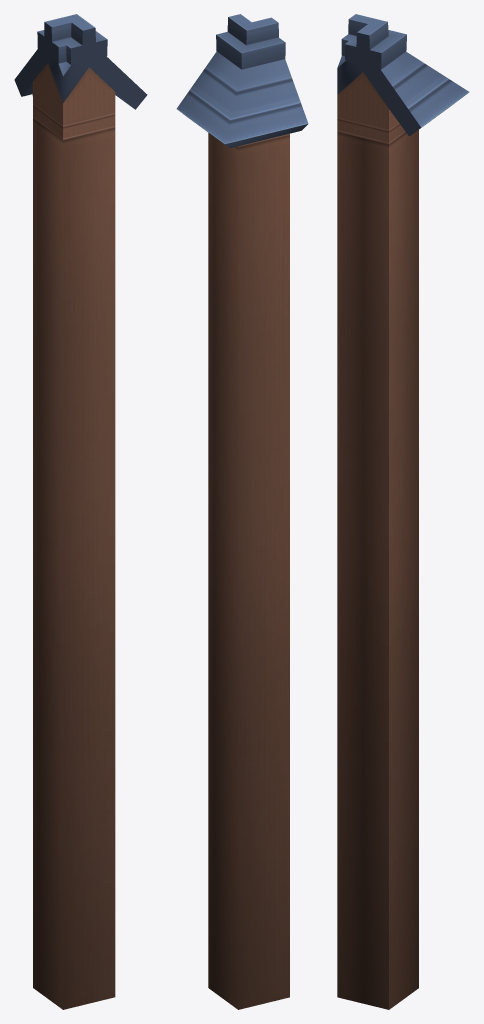
File: my_hotsprings_01_wall_side.glb
3 renders of one model, left to right at view 1: azimuth 30°, elevation 25°; view 2: azimuth 210°, elevation 25°; view 3: azimuth 330°, elevation 25°, orthographic.
Visible parts, largest first — view 1: my_hotsprings_01_wall_side; view 2: my_hotsprings_01_wall_side; view 3: my_hotsprings_01_wall_side.
Boxes of the visible parts, x1,y1,x2,y2 form: my_hotsprings_01_wall_side: (14,14,147,1009); my_hotsprings_01_wall_side: (176,14,308,1009); my_hotsprings_01_wall_side: (337,14,469,1009).
Size of the model in its own units: 0.00481 by 0.0531 by 0.00481.
Materials: 1 (1 with a texture image).
